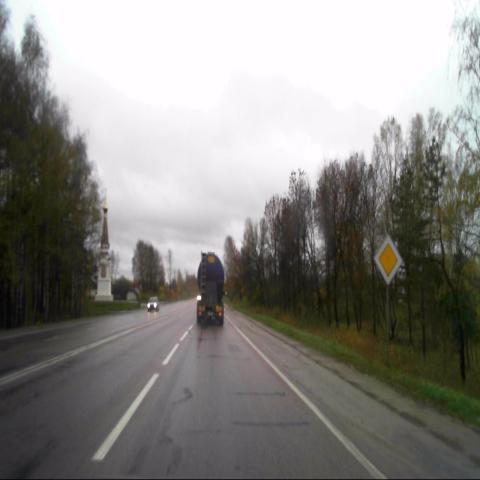2_1: (374, 232, 402, 286)
